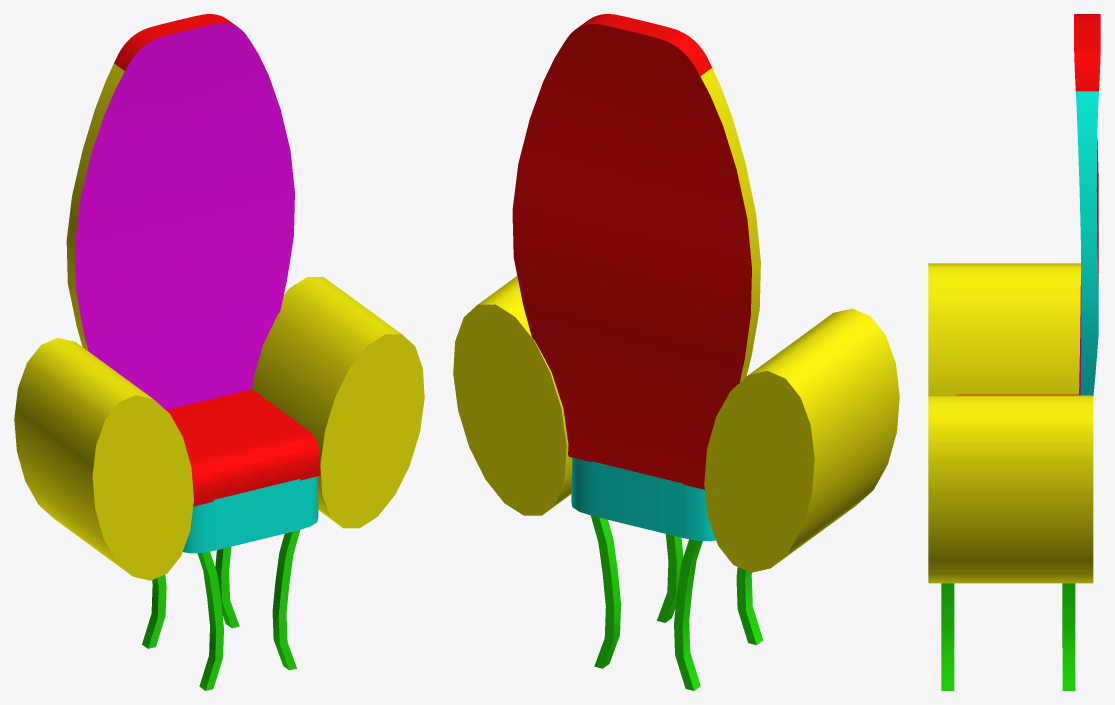
Rendered from umgebung_jimmy_sessel_low.FBX.
The picture shows the model from 3 angles, left to right: view 1: azimuth 30°, elevation 25°; view 2: azimuth 150°, elevation 25°; view 3: azimuth 270°, elevation 25°; orthographic projection. The views are drawn at different scales.
Parts seen in each view (by area): view 1: o_jimmy_sessel_rueckenlehne_low, o_jimmy_sessel_lehne_low, i_jimmy_sessel_lehne_low, o_jimmy_sessel_kissen_low, o_jimmy_sessel_sitzflaeche_low, i_jimmy_sessel_bein_low (×3), o_jimmy_sessel_bein_low; view 2: o_jimmy_sessel_rueckenlehne_low, o_jimmy_sessel_lehne_low, i_jimmy_sessel_lehne_low, o_jimmy_sessel_sitzflaeche_low, i_jimmy_sessel_bein_low (×3), o_jimmy_sessel_bein_low; view 3: i_jimmy_sessel_lehne_low, o_jimmy_sessel_lehne_low, o_jimmy_sessel_rueckenlehne_low, i_jimmy_sessel_bein_low (×2).
Boxes of the visible parts, box(x1,y1,x2,y2) form: o_jimmy_sessel_rueckenlehne_low: box(66, 14, 294, 409); o_jimmy_sessel_lehne_low: box(14, 338, 193, 580); i_jimmy_sessel_lehne_low: box(252, 277, 424, 528); o_jimmy_sessel_kissen_low: box(166, 389, 320, 506); o_jimmy_sessel_sitzflaeche_low: box(182, 476, 318, 553); i_jimmy_sessel_bein_low (×3): box(142, 530, 300, 670); o_jimmy_sessel_bein_low: box(197, 551, 223, 690); o_jimmy_sessel_rueckenlehne_low: box(512, 14, 760, 488); o_jimmy_sessel_lehne_low: box(704, 308, 899, 572); i_jimmy_sessel_lehne_low: box(453, 276, 572, 515); o_jimmy_sessel_sitzflaeche_low: box(571, 458, 715, 541); i_jimmy_sessel_bein_low (×3): box(590, 515, 702, 690); o_jimmy_sessel_bein_low: box(736, 567, 762, 644); i_jimmy_sessel_lehne_low: box(928, 395, 1093, 583); o_jimmy_sessel_lehne_low: box(928, 263, 1080, 395); o_jimmy_sessel_rueckenlehne_low: box(1074, 14, 1100, 395); i_jimmy_sessel_bein_low (×2): box(941, 583, 1075, 690).
Size of the model in its own units: 181 by 77.16 by 314.
